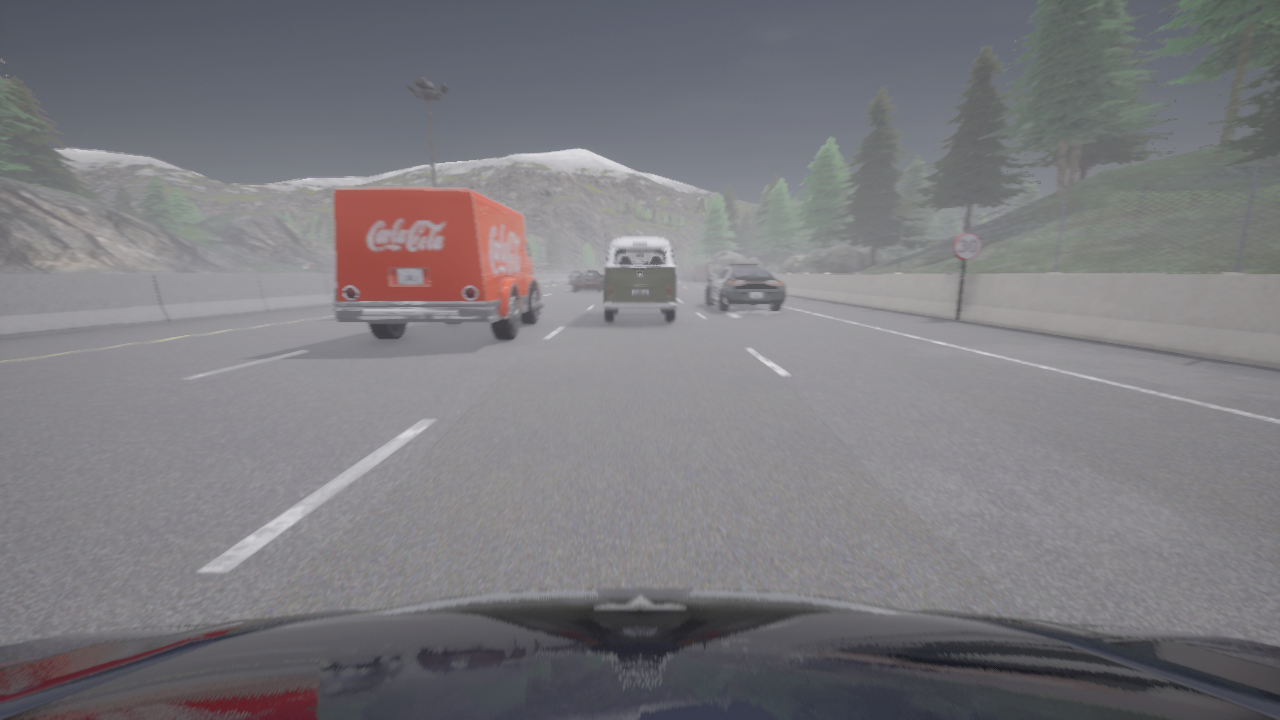cyclist: (0, 588, 1279, 719), (333, 187, 547, 339), (603, 237, 676, 321), (706, 263, 786, 310), (572, 271, 603, 290), (569, 269, 583, 283), (334, 287, 335, 301)
